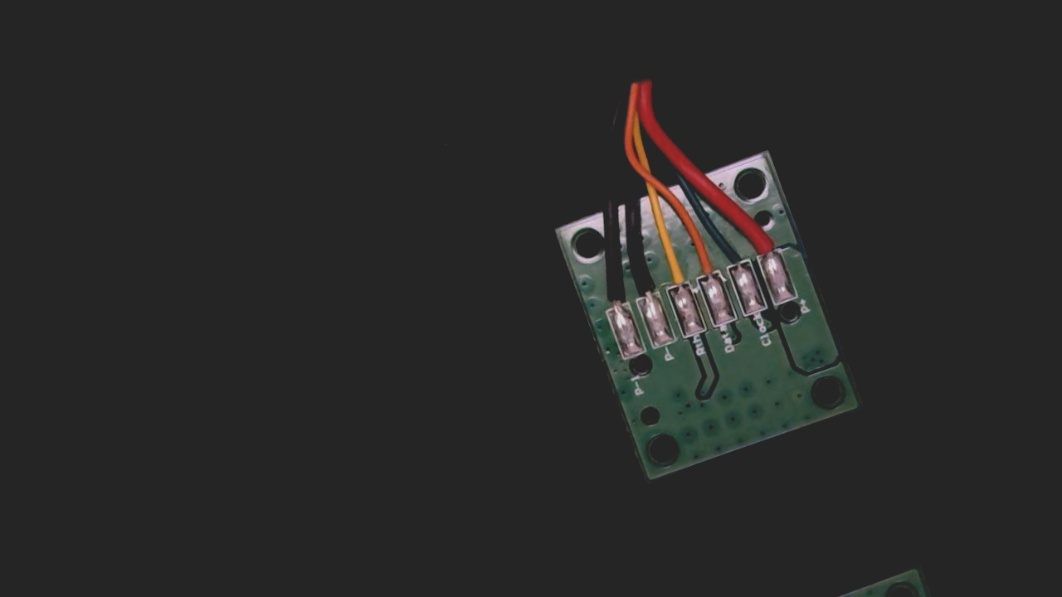Black: (618, 246, 668, 315)
Black1: (594, 270, 635, 326)
Green: (710, 224, 756, 282)
Orange: (684, 236, 726, 291)
Red: (742, 214, 785, 271)
Yellow: (653, 246, 696, 303)
